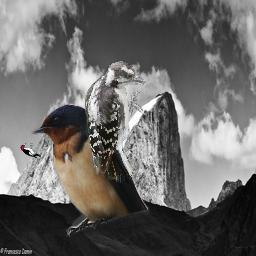Swallow: (31, 103, 150, 239)
Woodpecker: (85, 61, 147, 183), (18, 142, 41, 159)
